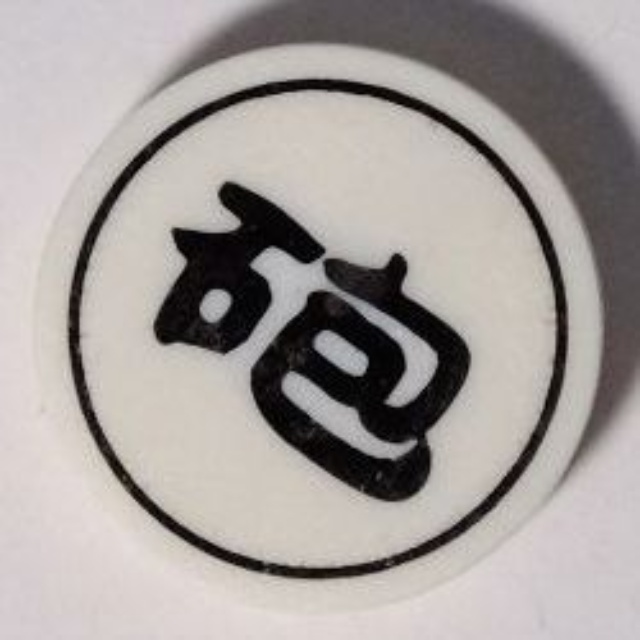black_phao: (27, 36, 612, 618)
